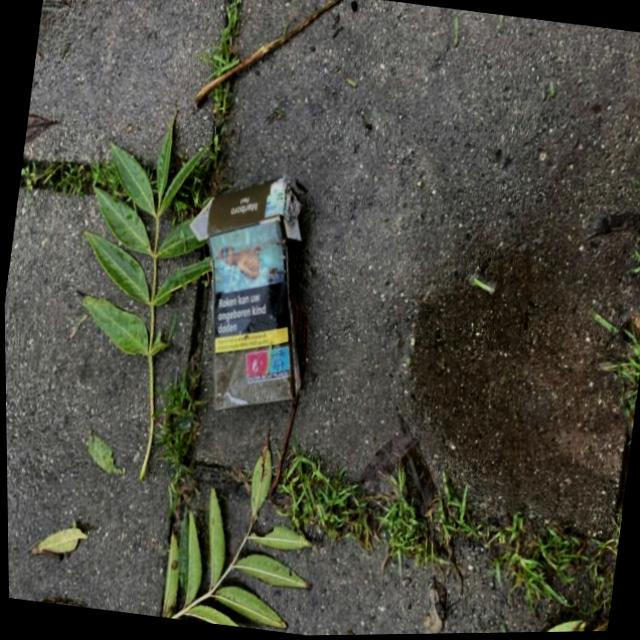Paper: (159, 160, 332, 427)
